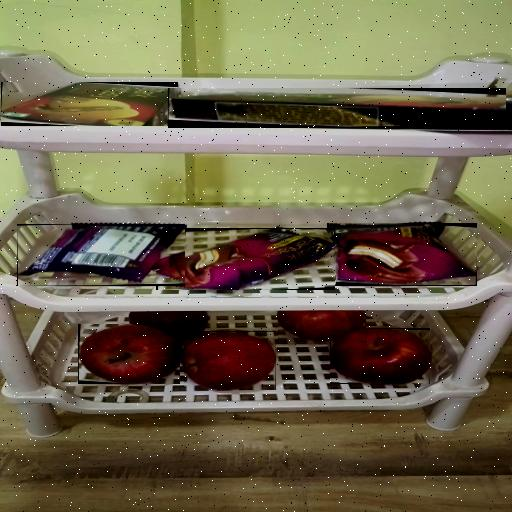Apple: (78, 324, 180, 384), (330, 328, 430, 384), (184, 331, 276, 390), (278, 312, 366, 344)
Choco Fills: (168, 88, 506, 128), (1, 82, 178, 126)
Choco Pie: (156, 228, 335, 290), (17, 224, 185, 286), (327, 223, 477, 286)
